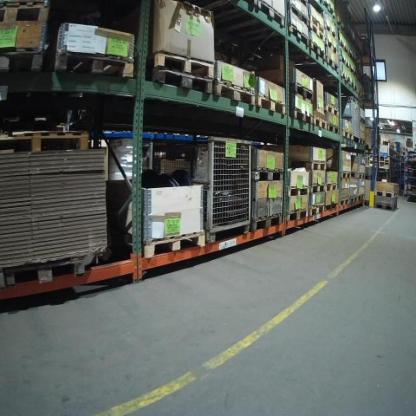pallet: (3, 255, 87, 289), (53, 49, 135, 80), (0, 130, 92, 157), (144, 228, 206, 259), (151, 52, 215, 80), (150, 69, 213, 95), (0, 45, 48, 74), (213, 79, 256, 105), (257, 0, 285, 29), (256, 92, 287, 116), (251, 212, 284, 233), (287, 24, 310, 48), (288, 157, 327, 171), (251, 166, 285, 182), (288, 4, 309, 27), (289, 83, 314, 102), (289, 107, 314, 124), (310, 40, 327, 62), (285, 207, 310, 221), (287, 185, 311, 197), (310, 22, 324, 41), (373, 190, 399, 199), (310, 203, 325, 218), (326, 39, 339, 55), (327, 58, 340, 74), (324, 104, 340, 117), (324, 23, 337, 39), (373, 202, 398, 210), (313, 117, 327, 130), (342, 127, 354, 142), (311, 183, 326, 194), (327, 123, 340, 135), (326, 182, 339, 193), (341, 171, 352, 180), (340, 197, 350, 206), (350, 194, 358, 204), (359, 138, 366, 145), (359, 173, 365, 178)
stillage: (142, 131, 257, 246)
